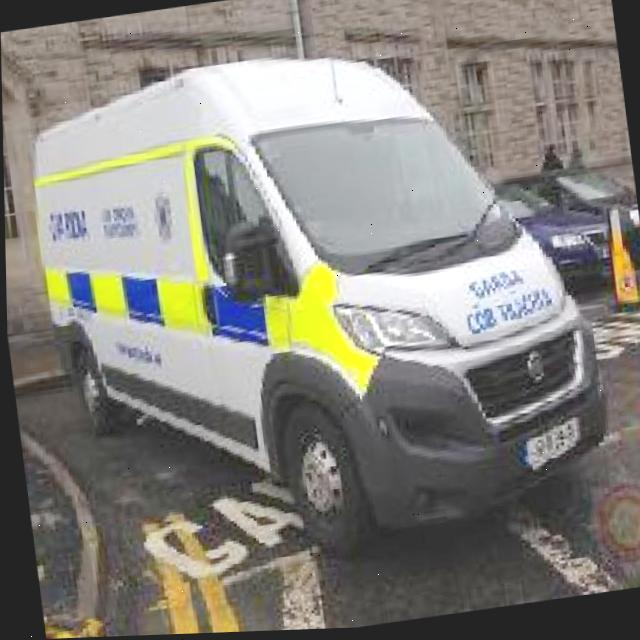emergency: (12, 13, 621, 595)
